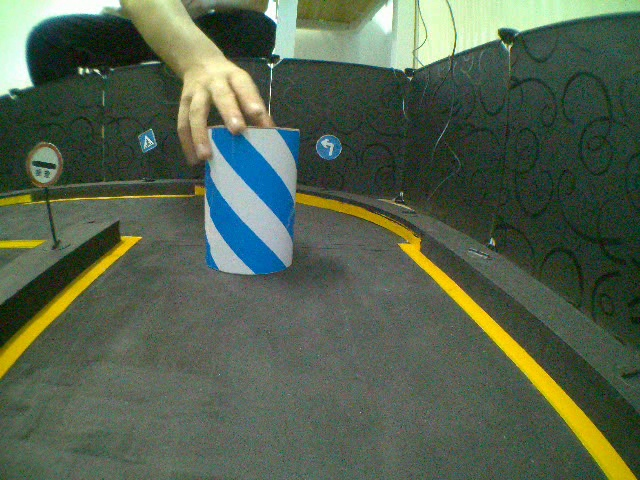bucket: (205, 126, 297, 277)
